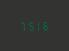five: (26, 20, 33, 31)
one: (34, 19, 41, 30)
seven: (18, 20, 25, 31)
six: (42, 19, 49, 30)
